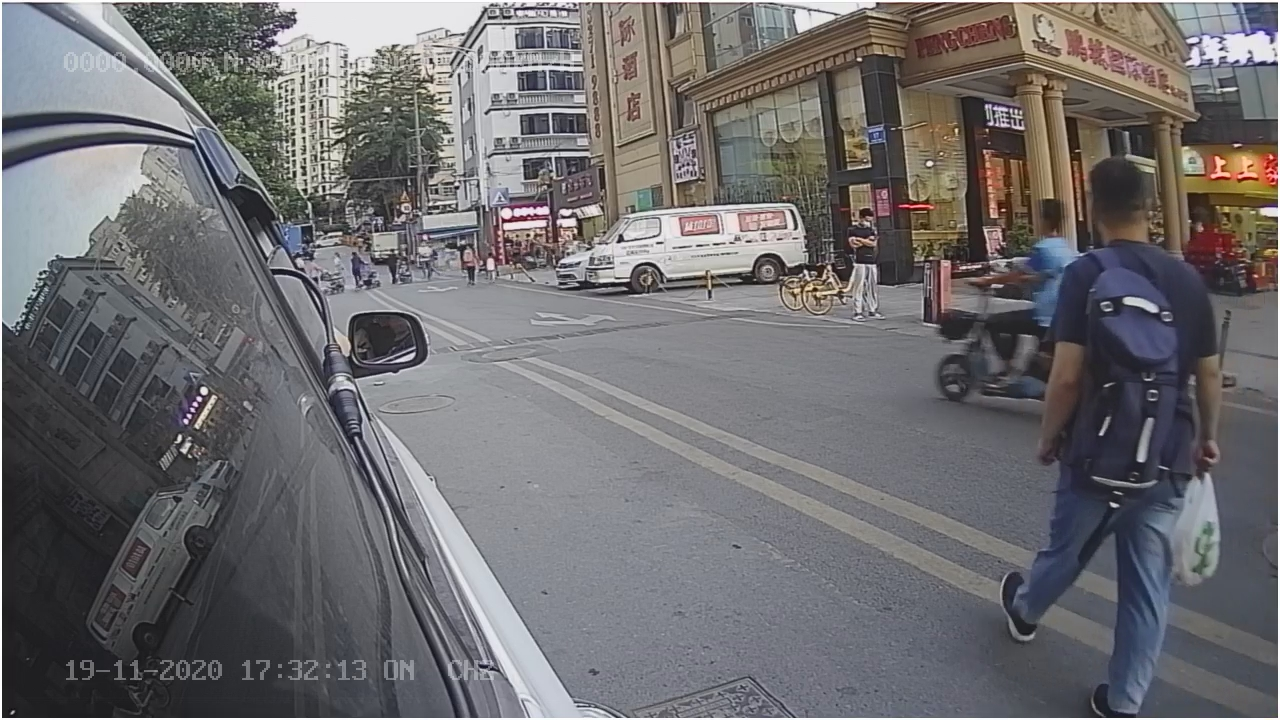person: (1051, 159, 1217, 629)
